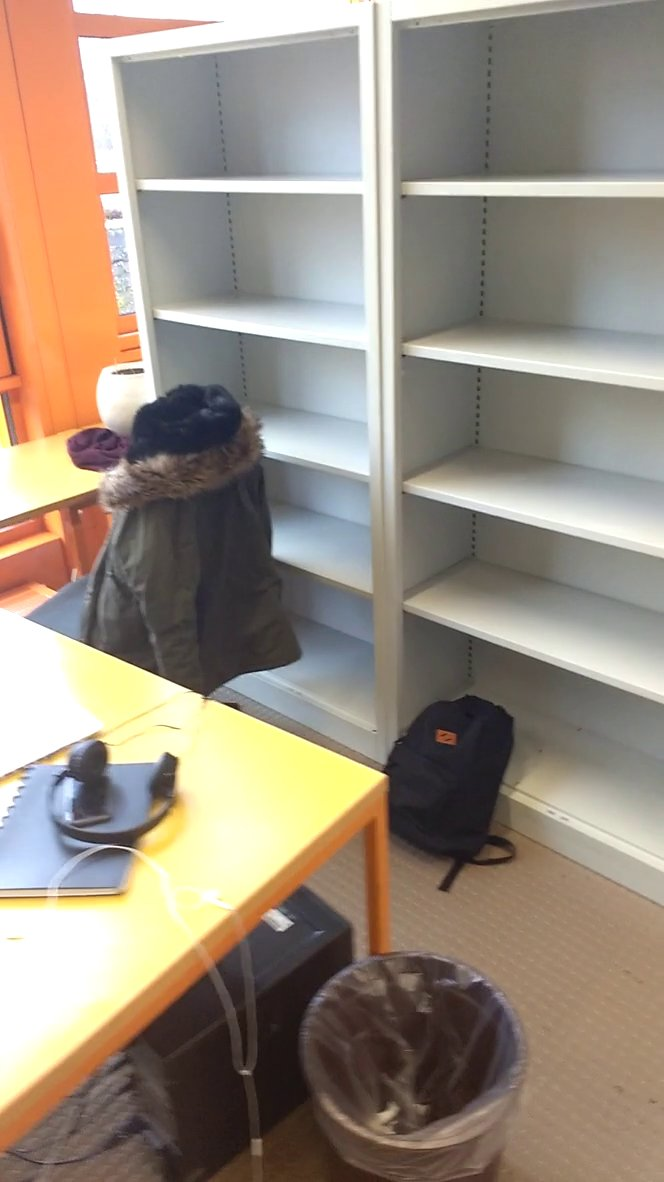bag: (365, 686, 526, 878)
bin: (291, 940, 554, 1182)
